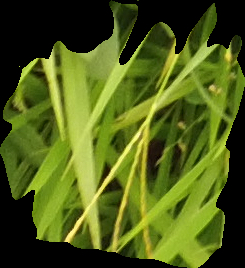grass: (1, 1, 243, 267)
